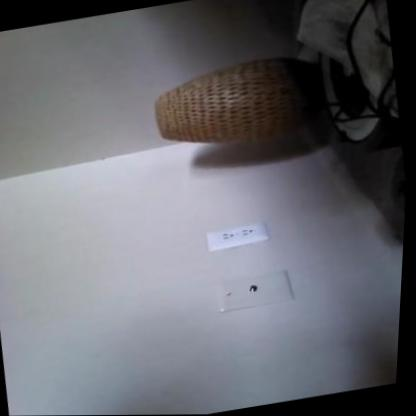OUTLET: (205, 221, 269, 250)
